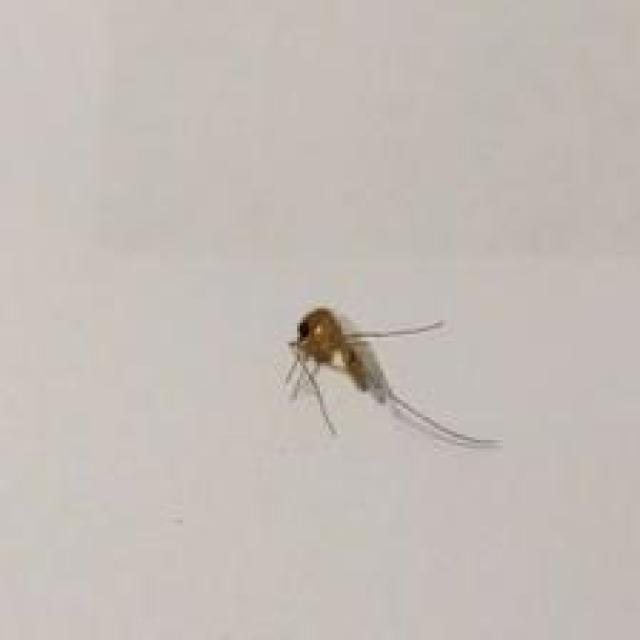Culex: (282, 304, 502, 450)
